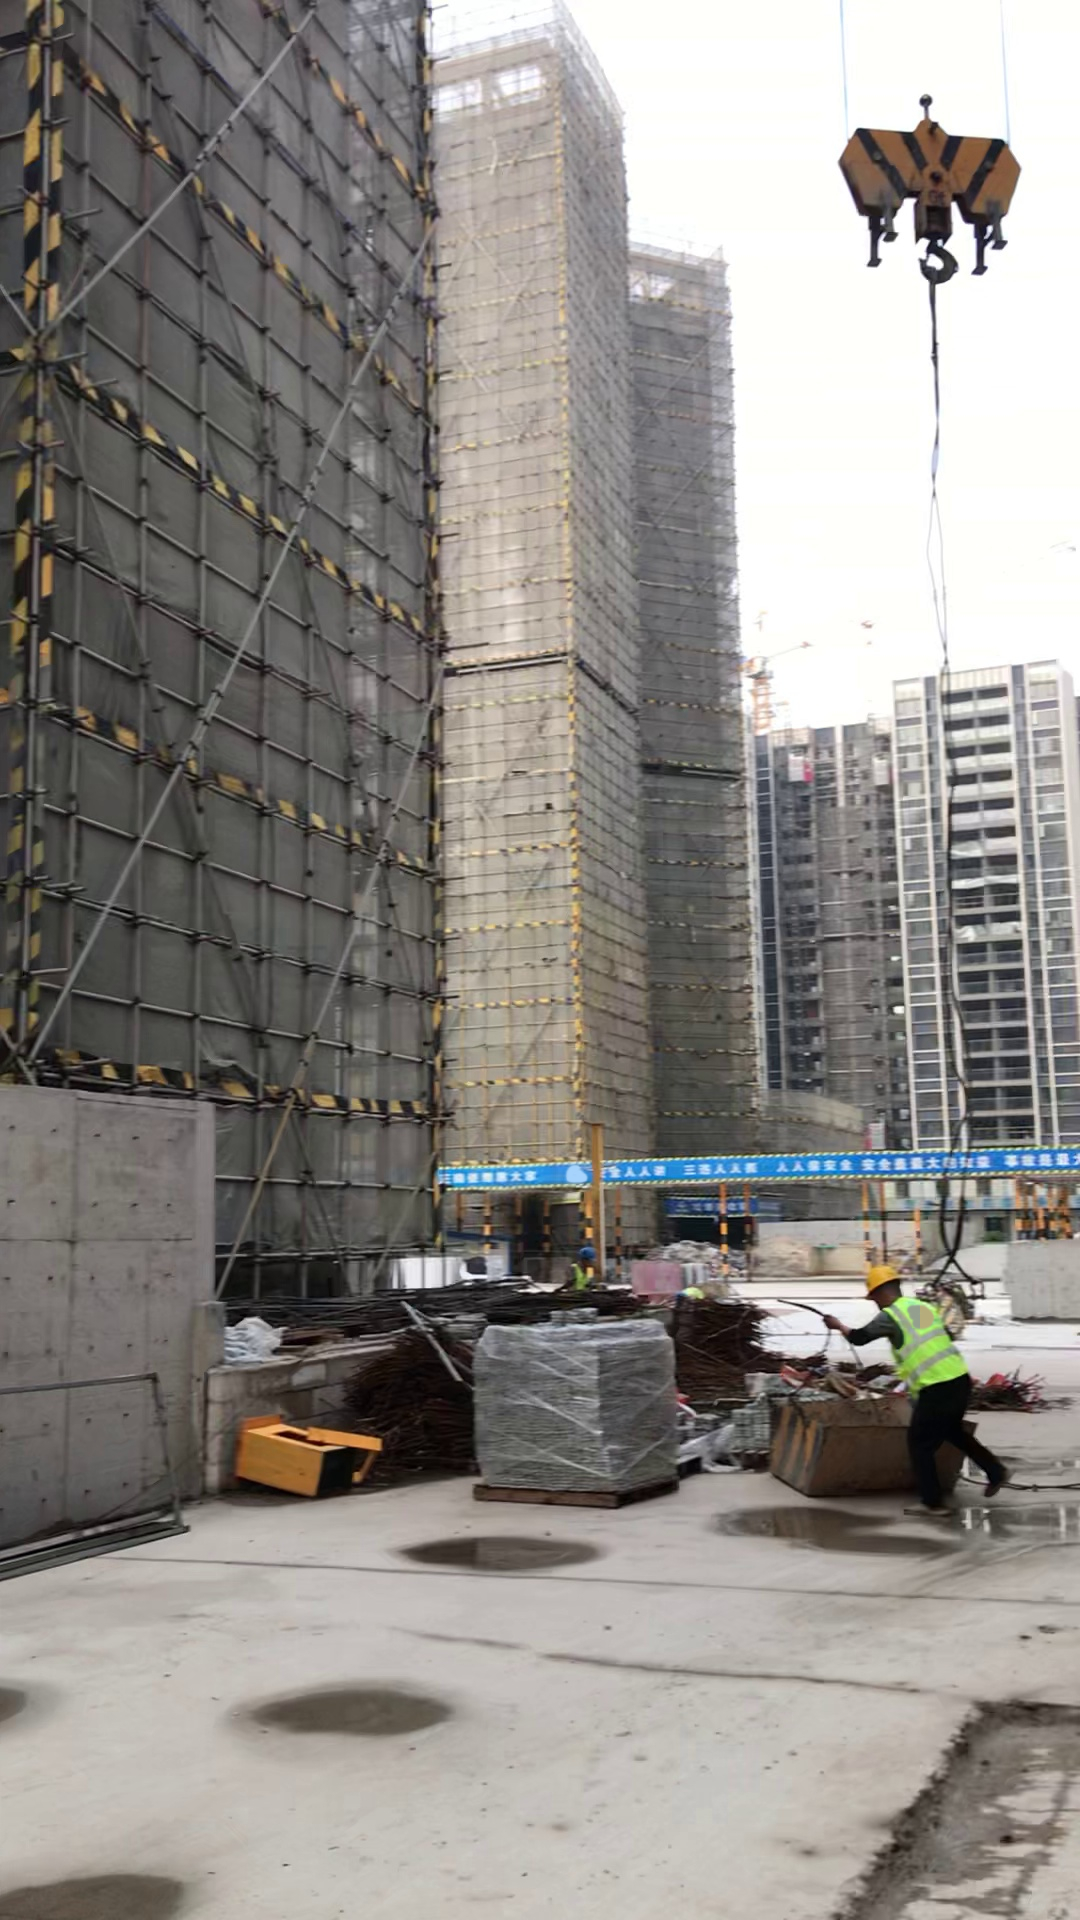ebox: (232, 1399, 386, 1503)
helmet: (863, 1262, 905, 1300), (576, 1244, 598, 1262)
hook: (845, 95, 1028, 286)
hopper: (755, 1384, 959, 1503)
person: (812, 1255, 1037, 1527), (562, 1244, 602, 1290)
slogan: (441, 1151, 1080, 1188)
vest: (877, 1305, 966, 1386), (569, 1266, 593, 1285)
